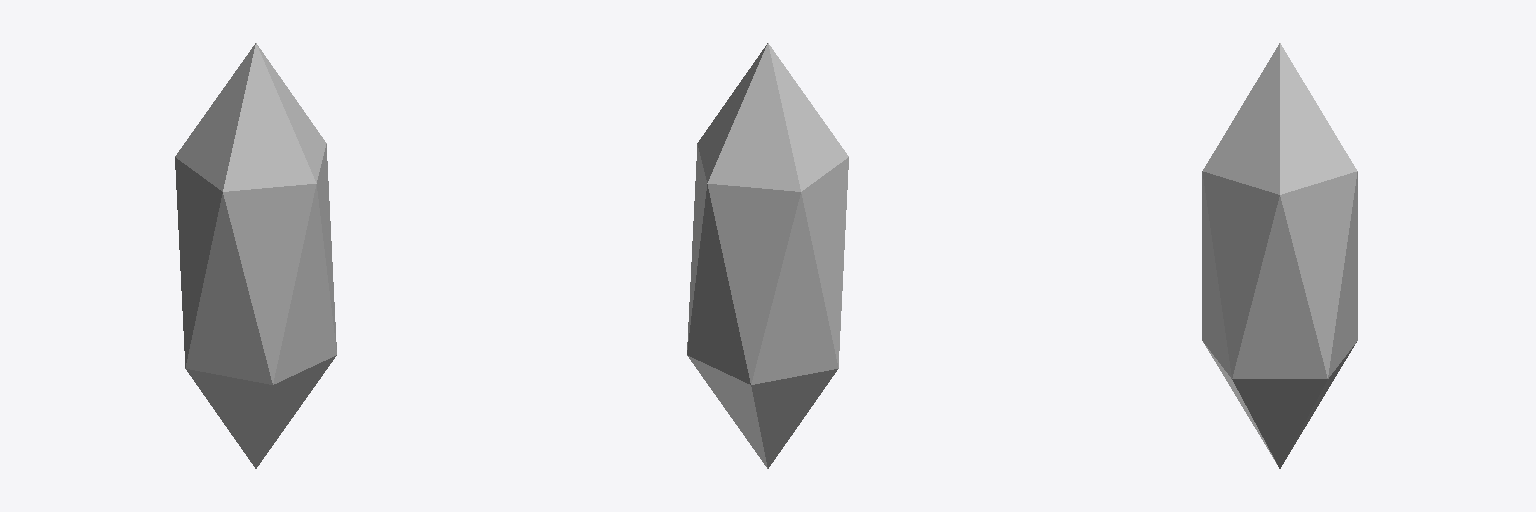
Rendered from enemy.obj.
The picture shows the model from 3 angles: view 1: azimuth 30°, elevation 25°; view 2: azimuth 150°, elevation 25°; view 3: azimuth 270°, elevation 25°; orthographic projection.
Visible parts, largest first — view 1: Icosphere; view 2: Icosphere; view 3: Icosphere.
Part boxes in pixels (x1,y1,x2,y2): Icosphere: (175, 43, 336, 468); Icosphere: (687, 43, 848, 468); Icosphere: (1202, 43, 1357, 468).
Bounding box in the file's own units: 1.79 × 5.16 × 1.7.